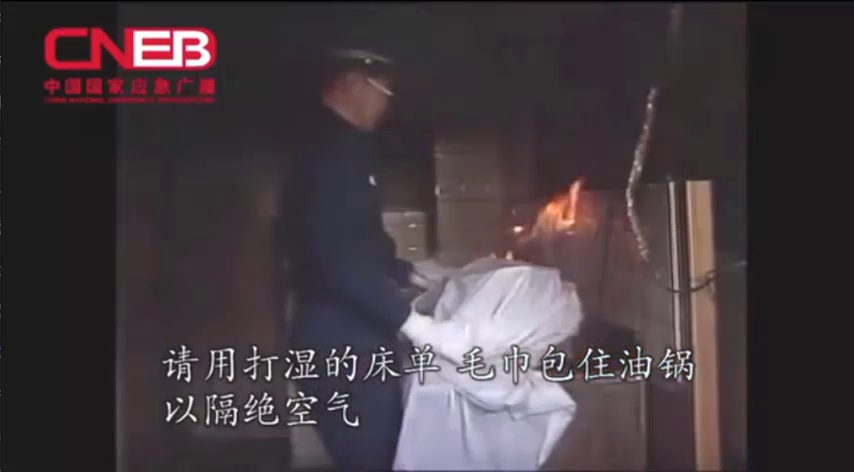fire: (529, 170, 592, 248)
